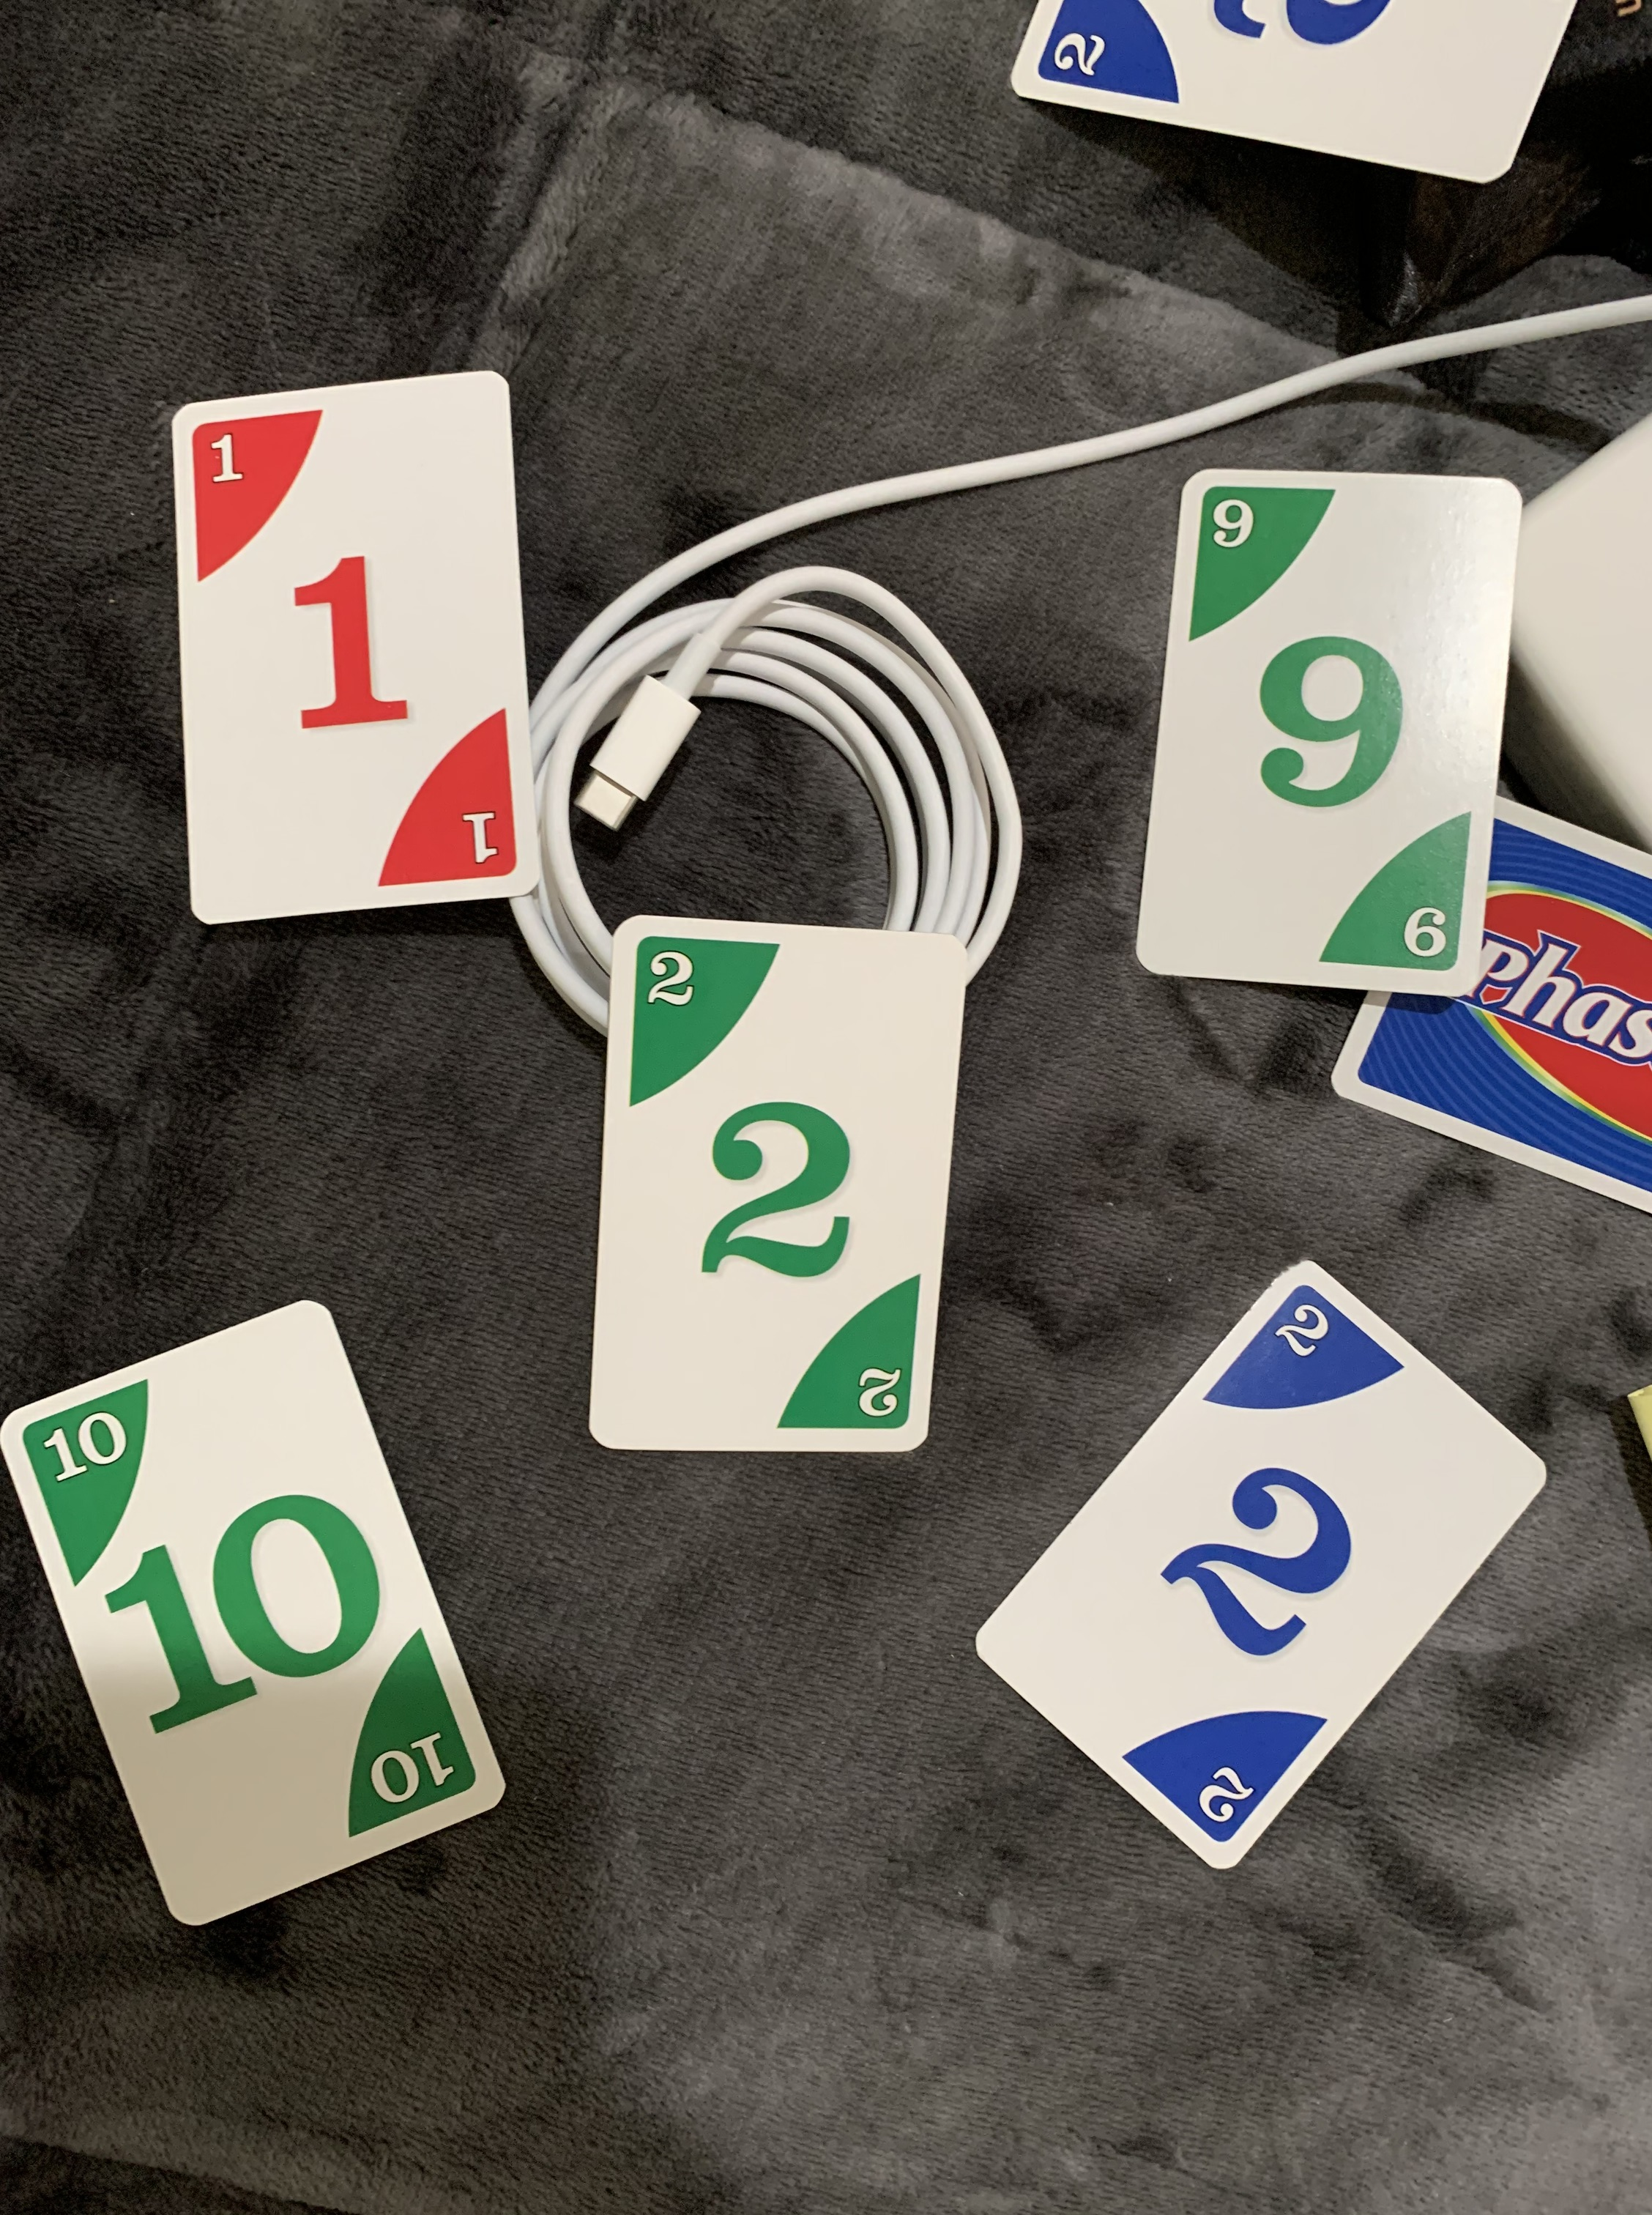nine: (1111, 451, 1541, 1019)
one: (130, 338, 564, 953)
ten: (0, 1250, 521, 1942)
two: (965, 1243, 1557, 1883), (552, 903, 977, 1482)
